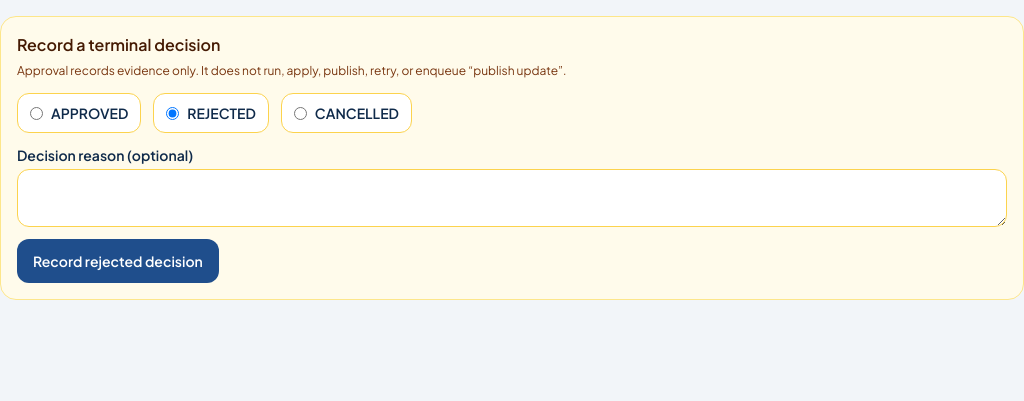
ApprovalDecisionForm › records a human decision while explicitly reporting no execution
Expected: the text "does not run, apply, publish, retry, or enqueue" is shown, [17,63,566,78]
Click the radio button labelled "APPROVED": (36, 113) [30,106,43,120]
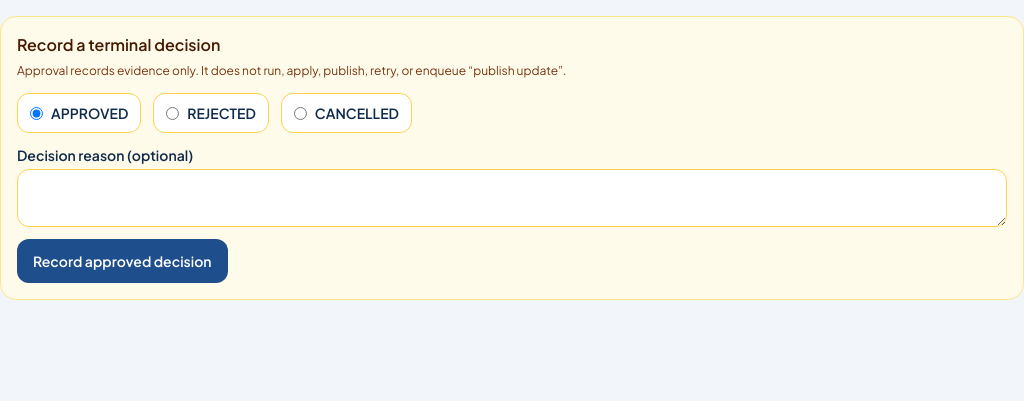
In the text box labelled "Decision reason (optional)": (512, 198) [17,169,1007,227], type "Evidence reviewed"
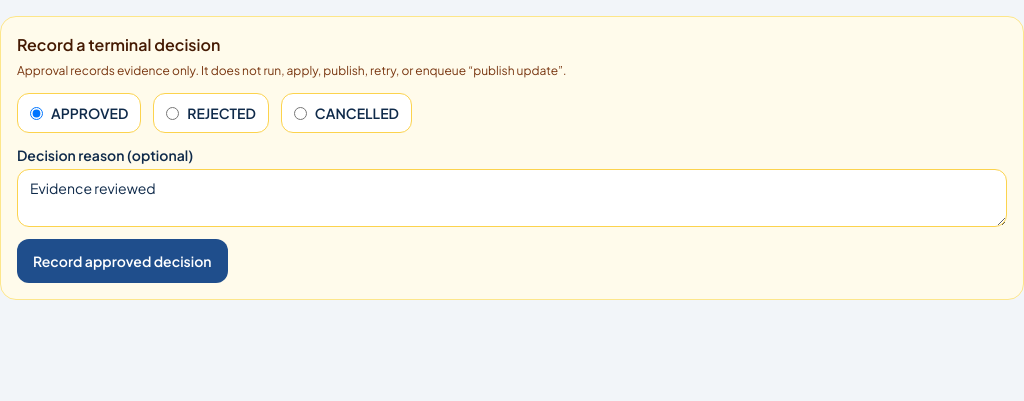
Click the button "Record approved decision": (122, 261) [17,239,228,283]
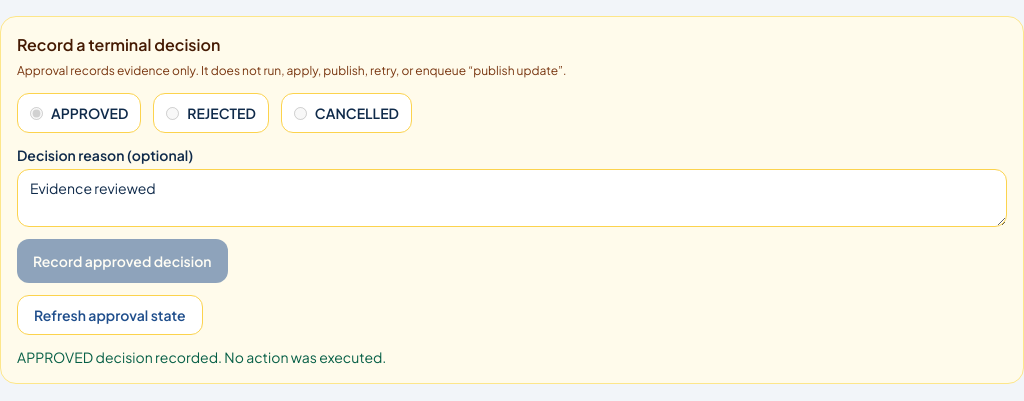
Expected: the text "APPROVED decision recorded. No action was executed." is shown, [17,348,386,366]
